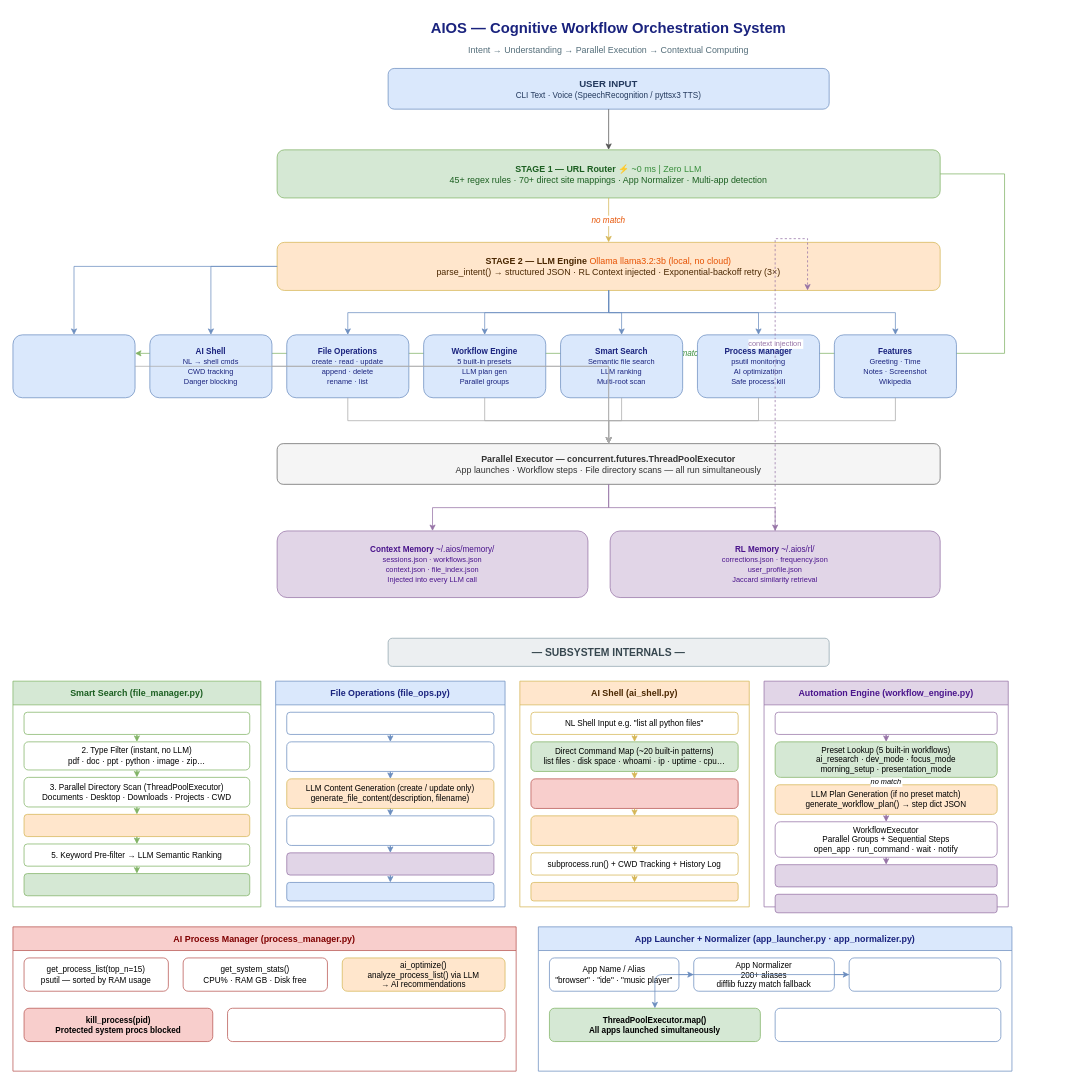
This 1084x1084 diagram has some shape labels left out. The centre of each missing label's shape, as x and y in pixels:
1. NL Query Input: point (136, 723)
4. LLM Keyword Extraction (runs in parallel with scan): point (136, 825)
6. Top 8 Results + Open-by-number prompt: point (136, 884)
App Launcher winreg · glob · PATH ThreadPoolExecutor 80+ apps: point (73, 366)
File I/O (Path.write_text / read_text) Confirmation prompt before delete: point (390, 830)
find_process(name) Match all PIDs → user selects which to kill: point (366, 1025)
Goal Input e.g. "start dev mode": point (885, 723)
LLM Translation translate_to_shell() Returns JSON array of shell commands: point (634, 830)
memory.index_file() + memory.log_command(): point (390, 863)
memory.save_workflow() + Run Count Logging: point (885, 875)
NL Input e.g. "create hello.py with sort func": point (390, 723)
Operation Detected create · read · update · append · delete · rename · list: point (390, 756)
Output printed to terminal (stdout + stderr): point (634, 891)
Path Resolution winreg · shutil.which · glob ms-settings: URIs: point (924, 974)
Progress callback per app ✓ chrome (21ms) ✓ vscode (34ms) ✗ failed: point (887, 1025)
Result returned to CLI with line numbers: point (390, 891)
WorkflowEngine.run_from_goal() fallback: point (885, 903)
⚠ Dangerous Pattern Blocker rm -rf · format · del /f · bcdedit · shutdown · dd: point (634, 793)
